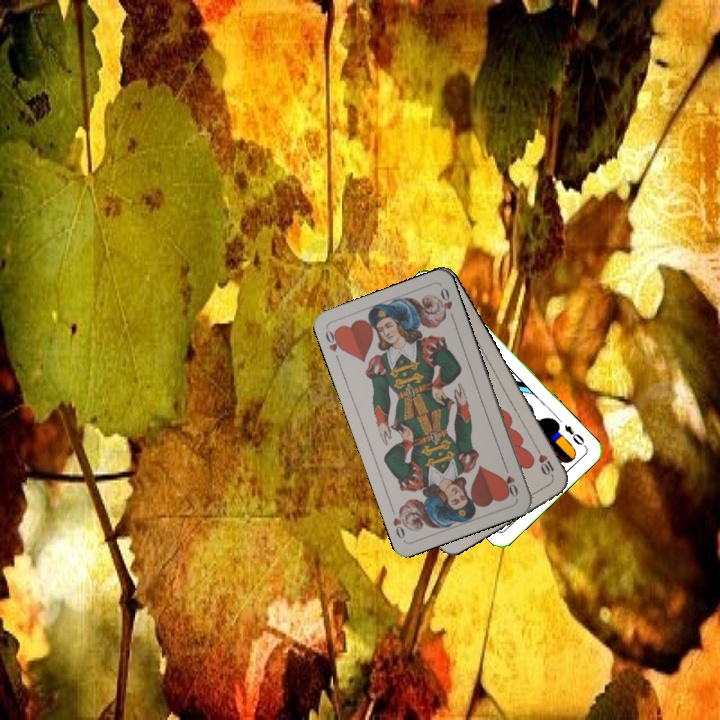EO: (560, 420, 589, 450)
H10: (532, 443, 557, 481)
HO: (321, 326, 346, 364), (500, 461, 521, 500)
